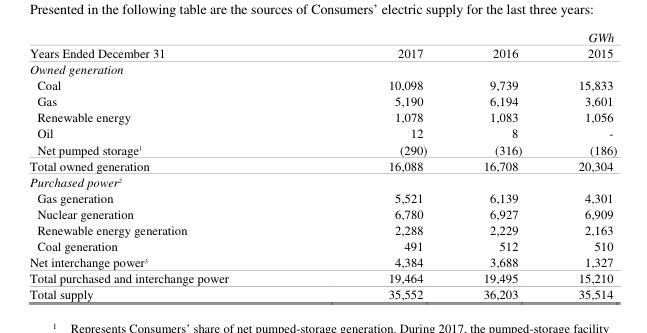table: (28, 28, 616, 301)
table column: (28, 28, 307, 301), (307, 28, 454, 301), (454, 28, 549, 301), (549, 28, 616, 301)
table column header: (28, 28, 616, 60)
table projected row header: (28, 60, 616, 76), (28, 173, 616, 188)
table row: (28, 28, 616, 60), (28, 156, 616, 173), (28, 188, 616, 205), (28, 60, 616, 76), (28, 76, 616, 92), (28, 92, 616, 108), (28, 108, 616, 124), (28, 124, 616, 140), (28, 140, 616, 156), (28, 205, 616, 221), (28, 221, 616, 237), (28, 237, 616, 253), (28, 253, 616, 269), (28, 269, 616, 285), (28, 285, 616, 301), (28, 173, 616, 188)
